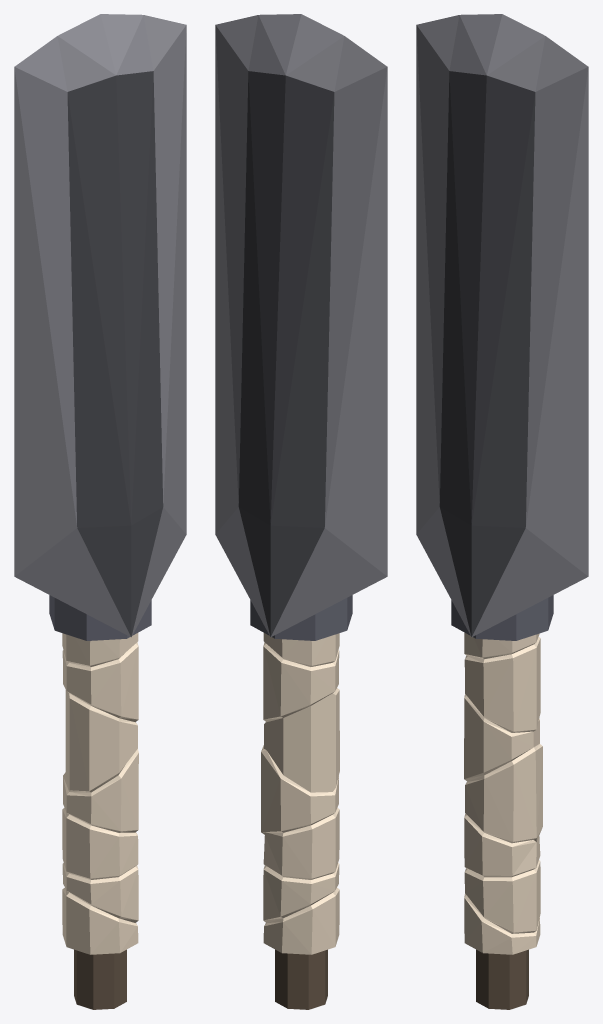
The model's file is dagger_dagger_5.glb.
3 views of the same model, side by side, from view 1: azimuth 30°, elevation 25°; view 2: azimuth 150°, elevation 25°; view 3: azimuth 330°, elevation 25° (orthographic).
Visible parts, largest first — view 1: dagger_5; view 2: dagger_5; view 3: dagger_5.
Part boxes in pixels (left/top/right/bottom): dagger_5: left=14, top=14, right=186, bottom=1009; dagger_5: left=215, top=14, right=387, bottom=1009; dagger_5: left=416, top=14, right=588, bottom=1009.
Size of the model in its own units: 6.82 by 37.3 by 4.24.
1 material, 1 textured.
